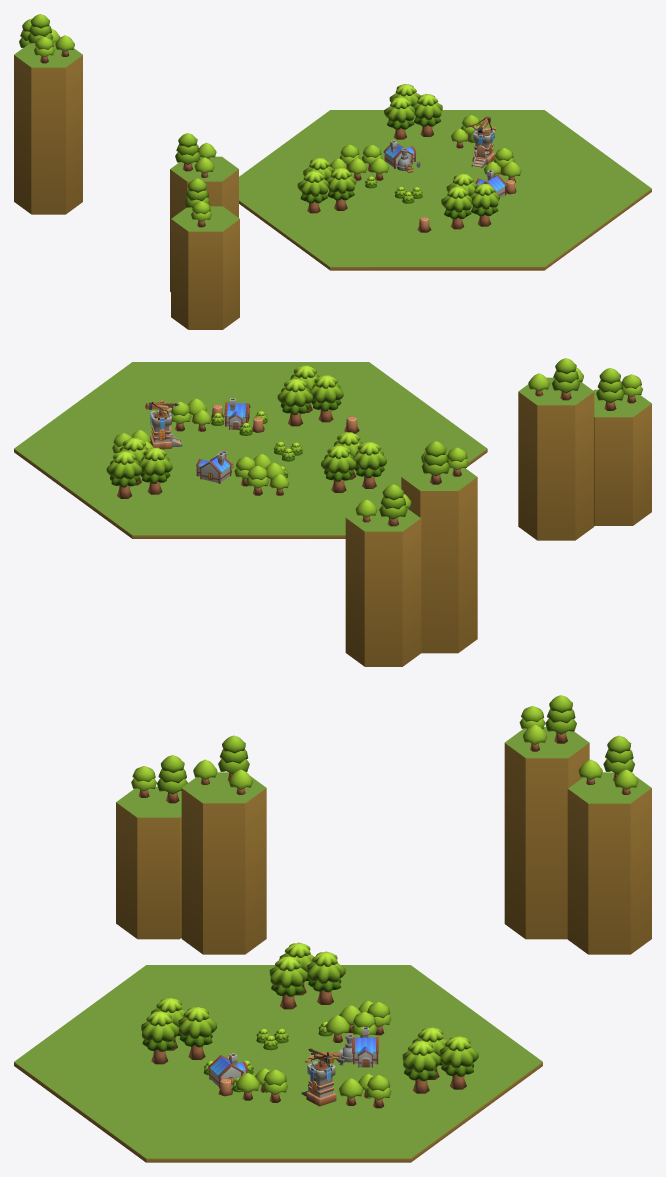
The model's file is world.glb.
The picture shows the model from 3 angles, top to bottom: view 1: azimuth 30°, elevation 25°; view 2: azimuth 150°, elevation 25°; view 3: azimuth 270°, elevation 25°; orthographic projection. The views are drawn at different scales.
Visible parts, largest first — view 1: Terrain.1, Deco.Terrain.3, Deco.Terrain.2, Deco.Terrain.1, Tree1.004, Tree1.003, Tree1.008, Tree1.001, Tree1.006, Tree1.007, farmHouse.001, pine3.009 (+3 smaller); view 2: Terrain.1, Deco.Terrain.1, Deco.Terrain.4, Deco.Terrain.3, Deco.Terrain.2, Tree1.005, Tree1.002, Tree1.009, Tree1.004, Tree1.008, Tree1.003, pine3.007 (+7 smaller); view 3: Terrain.1, Deco.Terrain.1, Deco.Terrain.4, Deco.Terrain.3, Deco.Terrain.2, Tree1.009, Tree1.006, Tree1.002, Tree1.007, Tree1.005, Tree1.001, farmHouse.001 (+6 smaller).
Part boxes in pixels (<box>): Terrain.1: <box>239,110,651,270</box>; Deco.Terrain.3: <box>14,42,82,214</box>; Deco.Terrain.2: <box>171,206,239,329</box>; Deco.Terrain.1: <box>170,156,238,291</box>; Tree1.004: <box>441,186,472,229</box>; Tree1.003: <box>297,170,328,213</box>; Tree1.008: <box>384,97,415,139</box>; Tree1.001: <box>470,183,499,226</box>; Tree1.006: <box>326,167,356,210</box>; Tree1.007: <box>412,94,442,136</box>; farmHouse.001: <box>383,140,420,172</box>; pine3.009: <box>175,133,200,171</box>; Terrain.1: <box>14,362,487,538</box>; Deco.Terrain.1: <box>518,377,594,540</box>; Deco.Terrain.4: <box>345,503,421,666</box>; Deco.Terrain.3: <box>401,463,477,653</box>; Deco.Terrain.2: <box>593,389,651,525</box>; Tree1.005: <box>277,378,312,426</box>; Tree1.002: <box>321,445,356,492</box>; Tree1.009: <box>106,451,141,498</box>; Tree1.004: <box>309,375,343,422</box>; Tree1.008: <box>139,447,172,494</box>; Tree1.003: <box>353,442,386,488</box>; pine3.007: <box>421,441,449,484</box>; Terrain.1: <box>14,965,542,1162</box>; Deco.Terrain.1: <box>181,772,266,954</box>; Deco.Terrain.4: <box>567,772,651,954</box>; Deco.Terrain.3: <box>504,727,589,939</box>; Deco.Terrain.2: <box>116,786,181,939</box>; Tree1.009: <box>439,1036,478,1089</box>; Tree1.006: <box>269,956,307,1009</box>; Tree1.002: <box>307,951,345,1004</box>; Tree1.007: <box>402,1040,440,1093</box>; Tree1.005: <box>178,1006,217,1059</box>; Tree1.001: <box>141,1011,179,1064</box>; farmHouse.001: <box>332,1027,378,1067</box>.
Size of what is drawn, in the model's own units: 19.86 by 7.47 by 19.05.
11 materials, 11 textured.
